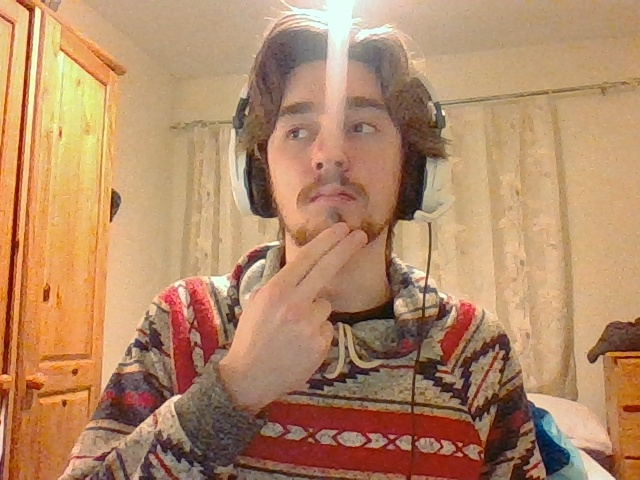afternoon: (224, 220, 368, 410)
